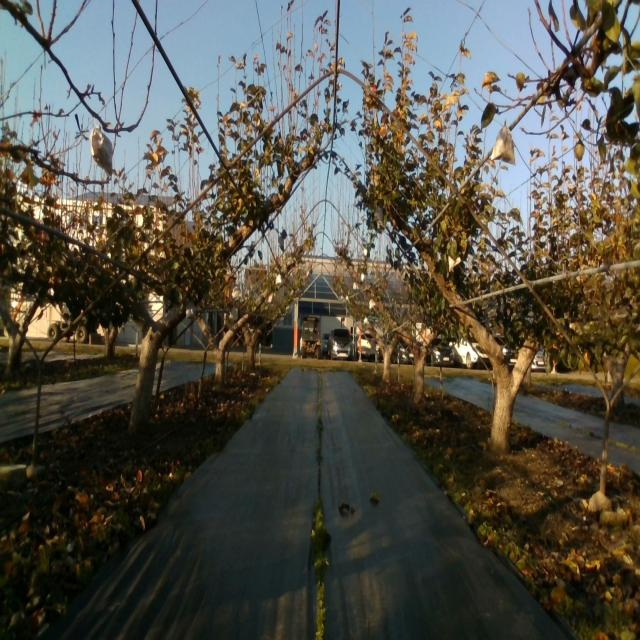pearbags: (90, 124, 114, 178), (490, 120, 515, 166), (373, 205, 385, 227), (185, 300, 196, 320)
